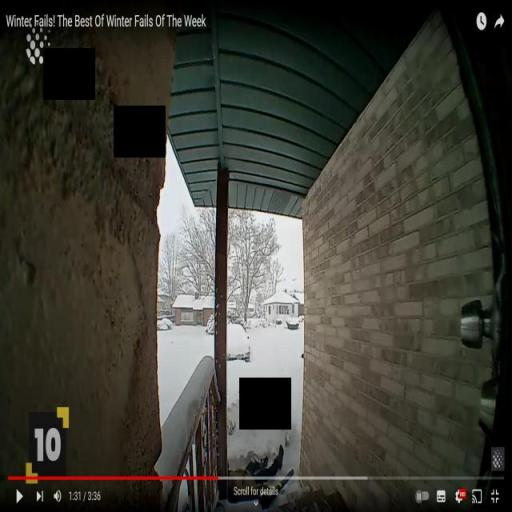Fall: (226, 441, 286, 505)
